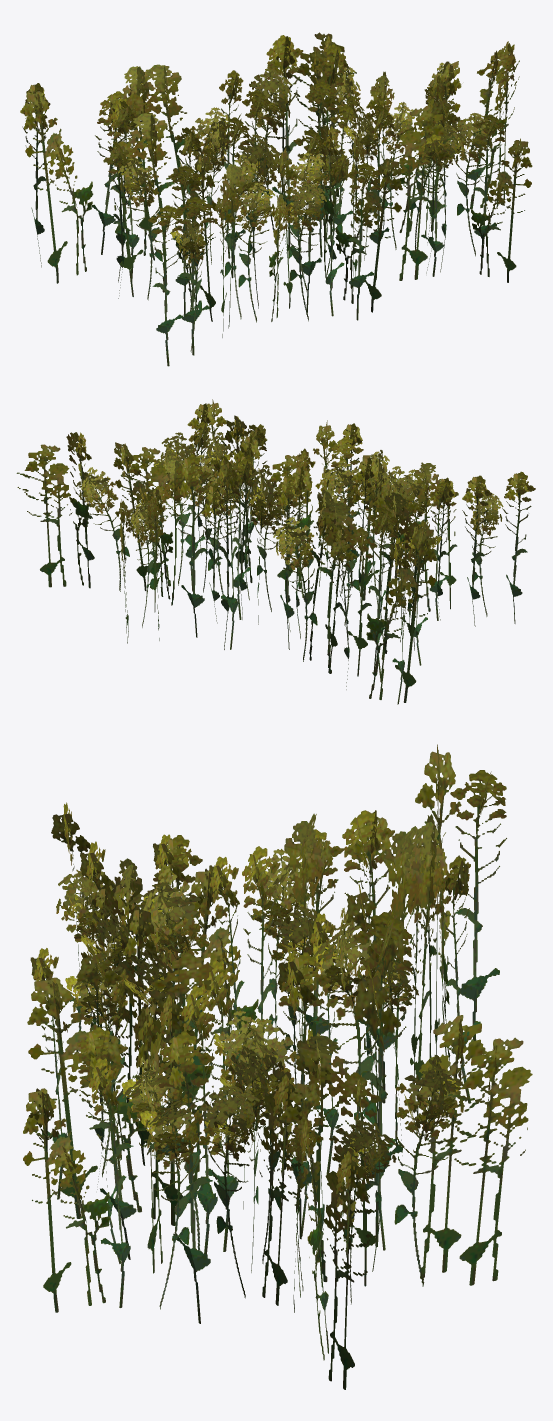
Rendered from gi-Flower_Common_D_02.glb.
3 renders of one model, top to bottom at view 1: azimuth 30°, elevation 25°; view 2: azimuth 150°, elevation 25°; view 3: azimuth 270°, elevation 25°, orthographic. The views are drawn at different scales.
Parts seen in each view (by area): view 1: gi-Flower_Common_D_02; view 2: gi-Flower_Common_D_02; view 3: gi-Flower_Common_D_02.
Part boxes in pixels (x1,y1,x2,y2): gi-Flower_Common_D_02: (20, 32, 532, 366); gi-Flower_Common_D_02: (16, 399, 535, 704); gi-Flower_Common_D_02: (23, 744, 532, 1389).
Size of the model in its own units: 4.29 by 2.01 by 2.54.
1 material, 1 textured.
